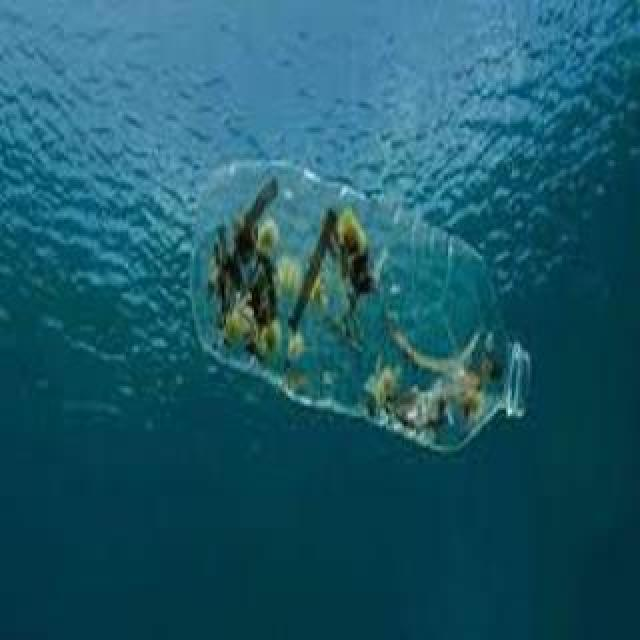Pet_Bottle: (183, 144, 545, 452)
